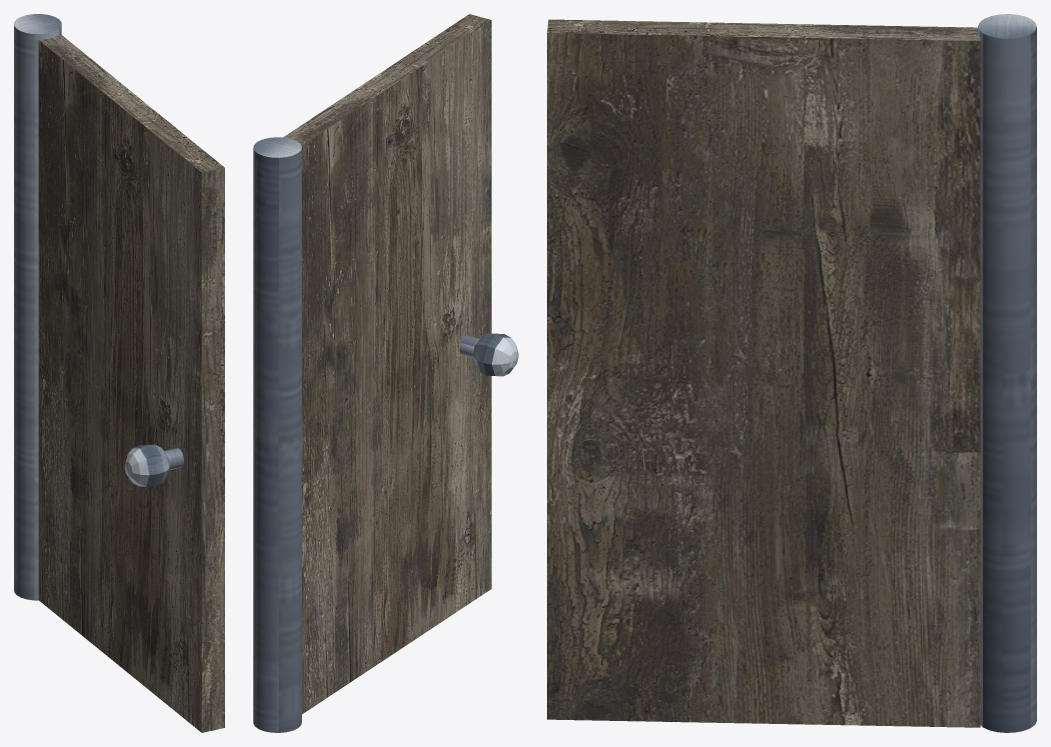
File: puerta123.fbx
3 views of the same model, side by side, from view 1: azimuth 30°, elevation 25°; view 2: azimuth 150°, elevation 25°; view 3: azimuth 270°, elevation 25° (orthographic). The views are drawn at different scales.
Visible parts, largest first — view 1: pCylinder6; view 2: pCylinder6; view 3: pCylinder6.
Boxes of the visible parts, x1=… form: pCylinder6: x1=14, y1=14, x2=224, y2=732; pCylinder6: x1=253, y1=14, x2=518, y2=732; pCylinder6: x1=547, y1=14, x2=1036, y2=732.
Bounding box in the file's own units: 1.24 × 7.19 × 4.6.
Materials: 1 (1 with a texture image).
